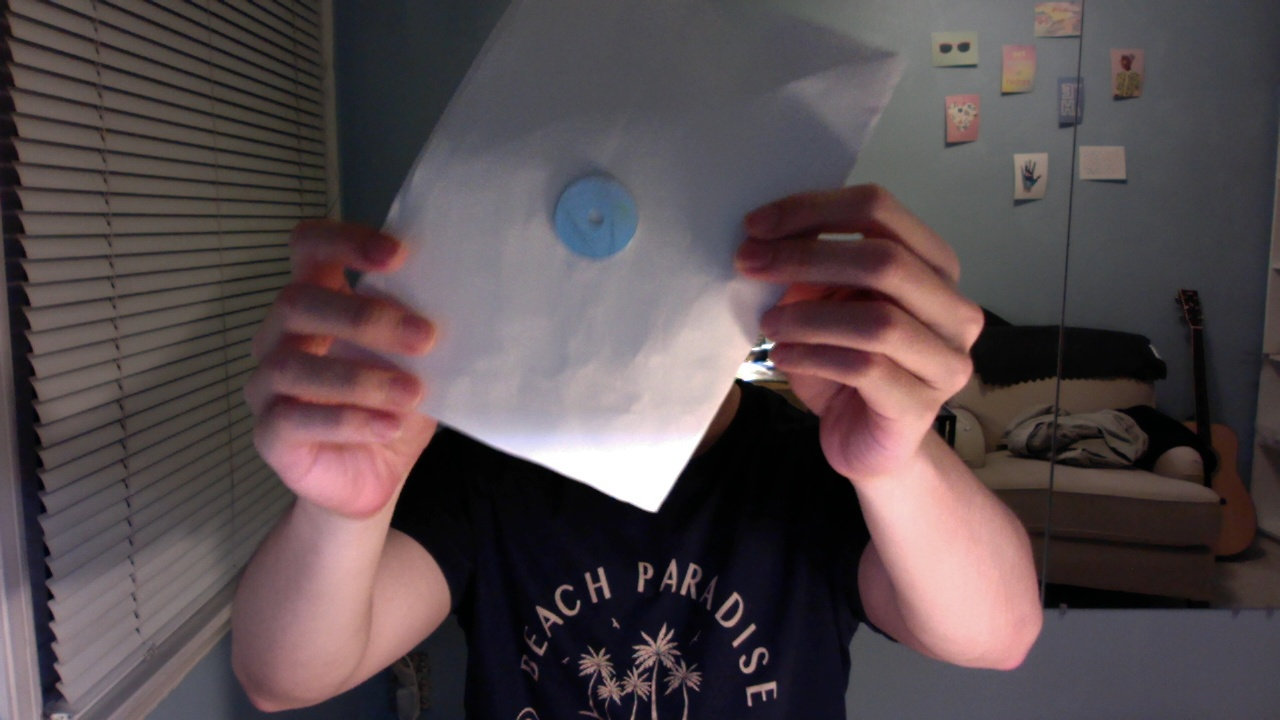DetectiveWashers: (561, 180, 619, 258)
